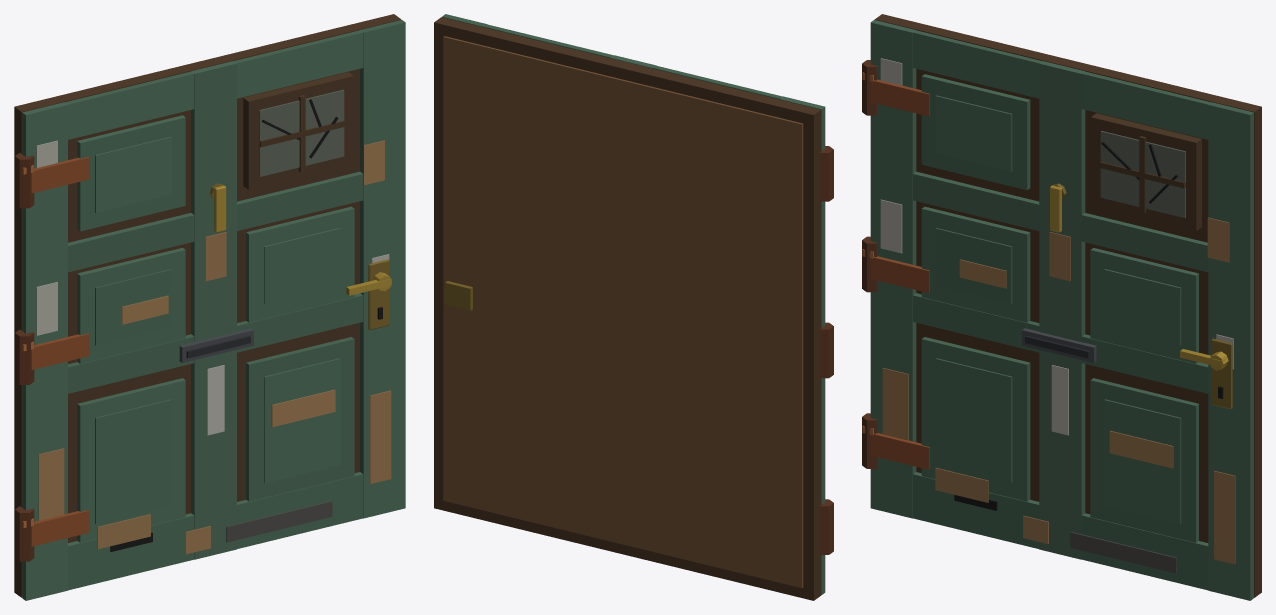
File: bld_door_house_front.fbx
The picture shows the model from 3 angles, left to right: view 1: azimuth 30°, elevation 25°; view 2: azimuth 150°, elevation 25°; view 3: azimuth 330°, elevation 25°; orthographic projection.
Parts seen in each view (by area): view 1: bld_door_house_front; view 2: bld_door_house_front; view 3: bld_door_house_front.
Boxes of the visible parts, x1,y1,x2,y2 form: bld_door_house_front: (14, 14, 405, 600); bld_door_house_front: (434, 14, 833, 600); bld_door_house_front: (862, 14, 1261, 600).
Size of the model in its own units: 1.83 by 2.2 by 0.1825.
